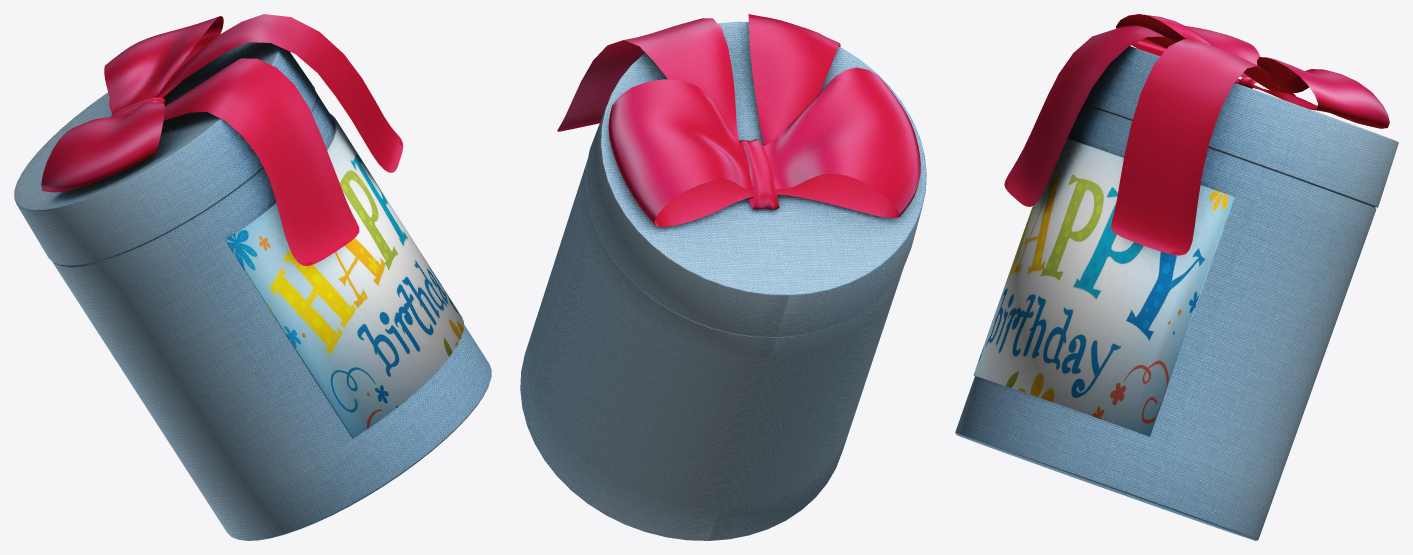
Rendered from GiftBox.dae.
3 views of the same model, side by side, from view 1: azimuth 30°, elevation 25°; view 2: azimuth 150°, elevation 25°; view 3: azimuth 270°, elevation 25° (orthographic). The views are drawn at different scales.
Visible parts, largest first — view 1: Torus; view 2: Torus; view 3: Torus.
Part boxes in pixels (<box>): Torus: <box>14,14,491,540</box>; Torus: <box>520,14,926,540</box>; Torus: <box>955,14,1398,540</box>.
Bounding box in the file's own units: 0.7541 × 0.7193 × 0.8743.
Materials: 3 (3 with a texture image).
